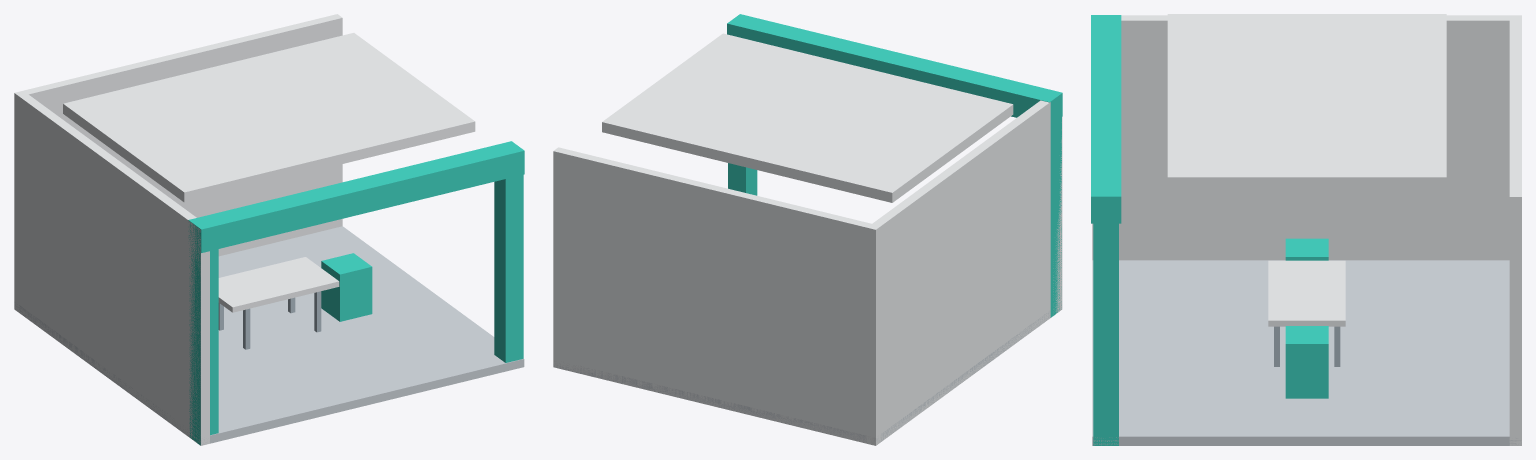
The picture shows the model from 3 angles, left to right: view 1: azimuth 30°, elevation 25°; view 2: azimuth 150°, elevation 25°; view 3: azimuth 270°, elevation 25°; orthographic projection. The views are drawn at different scales.
Parts seen in each view (by area): view 1: Exhibition Booth Concept; view 2: Exhibition Booth Concept; view 3: Exhibition Booth Concept.
Boxes of the visible parts, x1,y1,x2,y2 form: Exhibition Booth Concept: (14, 14, 524, 445); Exhibition Booth Concept: (553, 14, 1062, 445); Exhibition Booth Concept: (1091, 14, 1521, 445).
Size of the model in its own units: 5 by 3.34 by 5.02.
